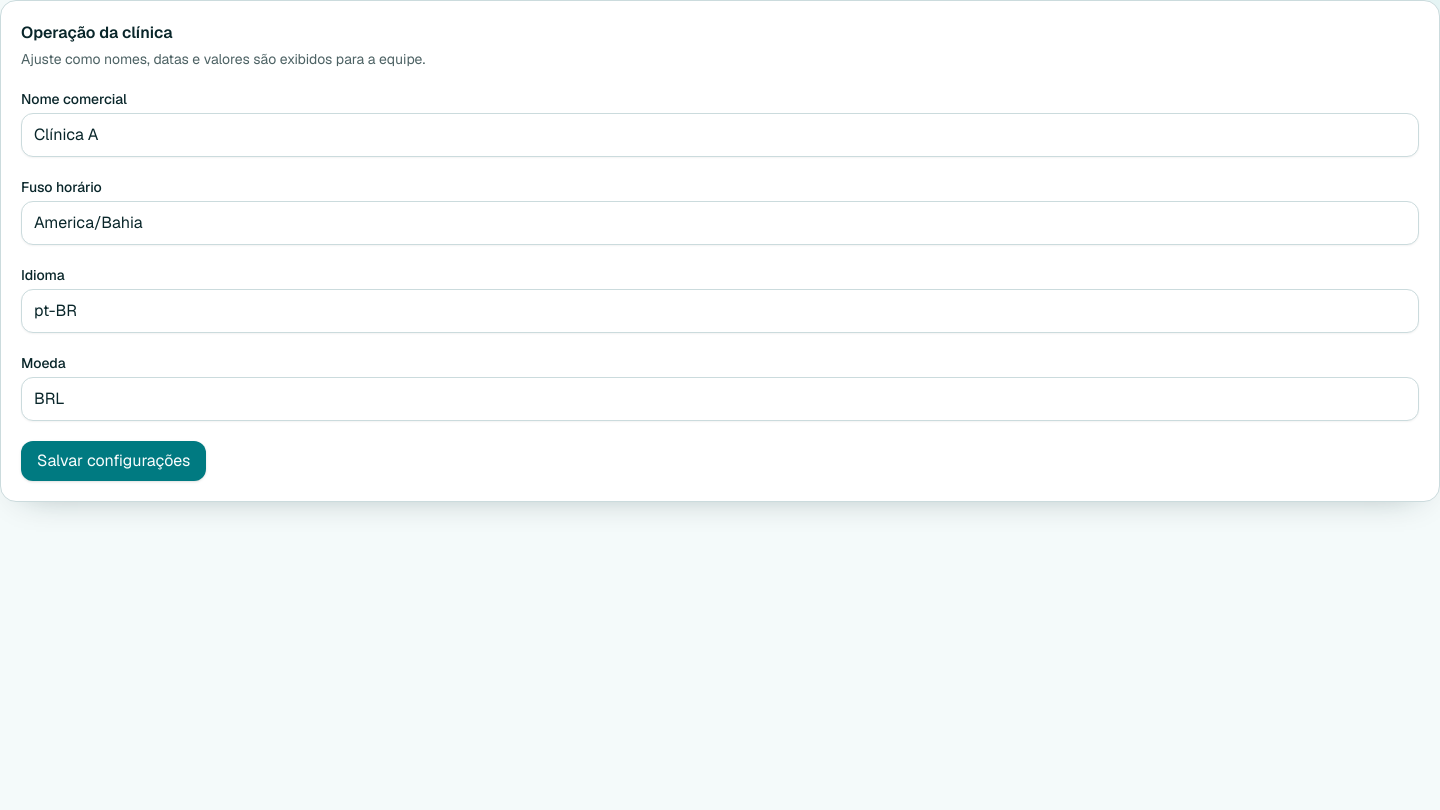
ClinicSettingsForm › shows the permission message on 403
The image size is (1440, 810).
Click the button "Salvar configurações". click: click(114, 461)
box: [21,441,206,481]
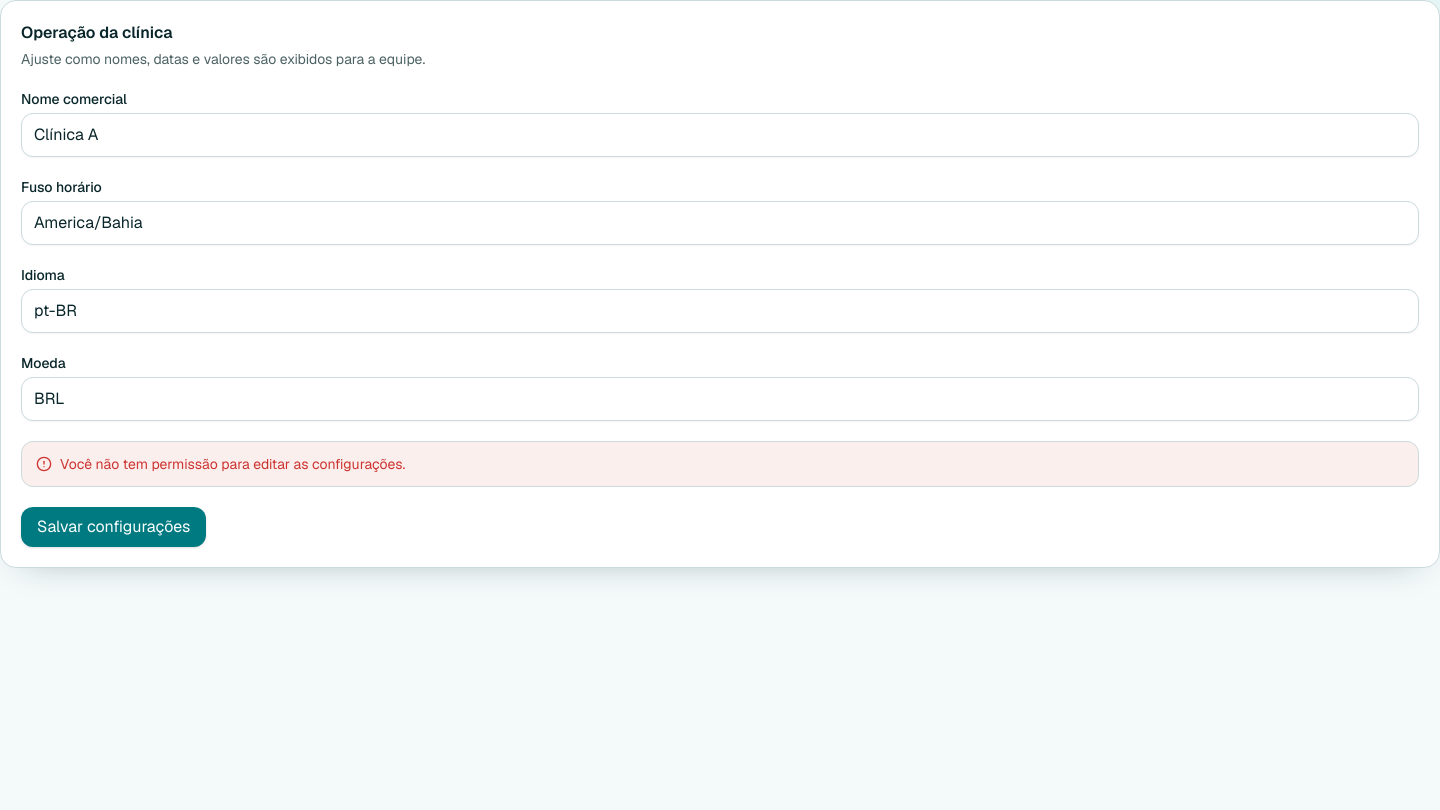
Expected: the message reads "Você não tem permissão para editar as configurações.", [60,455,405,473]
